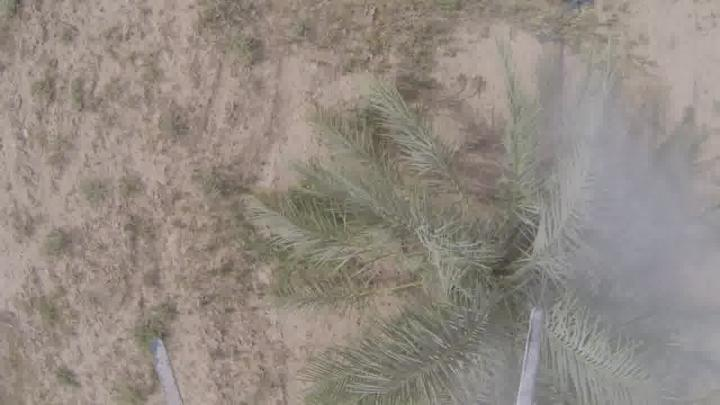Date-Palm-Crown: (368, 145, 634, 389)
